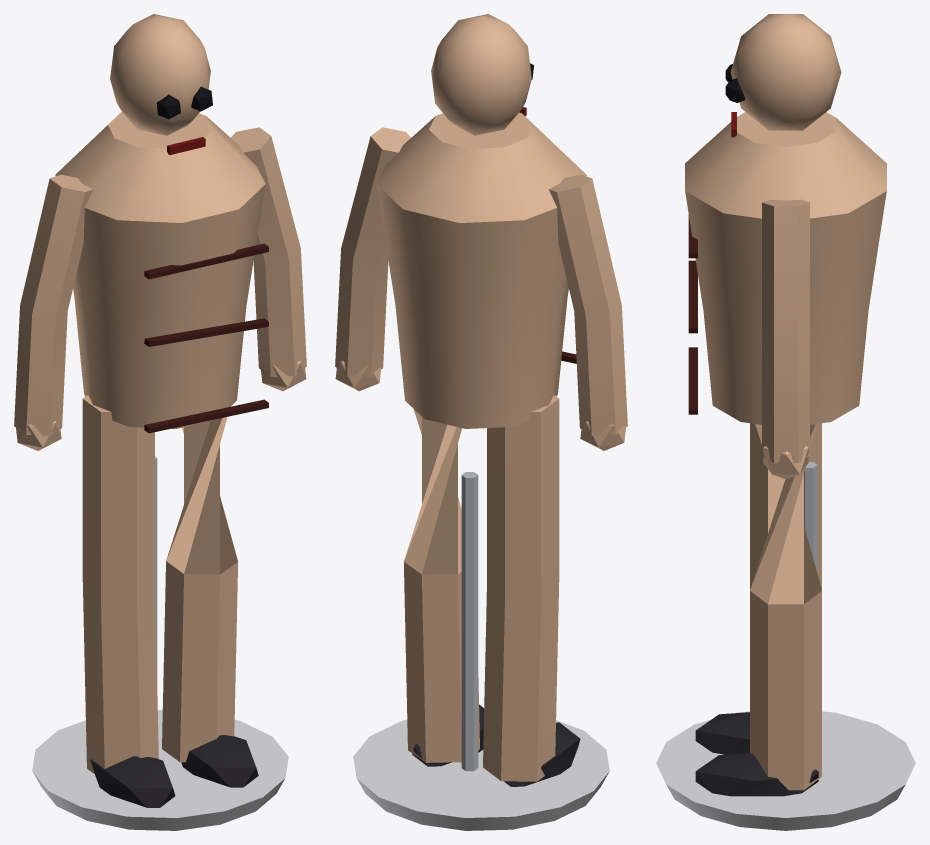
The model's file is mannequin_skin.glb.
3 renders of one model, left to right at view 1: azimuth 30°, elevation 25°; view 2: azimuth 150°, elevation 25°; view 3: azimuth 270°, elevation 25°, orthographic.
Parts seen in each view (by area): view 1: mannequin_skin; view 2: mannequin_skin; view 3: mannequin_skin.
Boxes of the visible parts, x1,y1,x2,y2 form: mannequin_skin: [14, 14, 306, 830]; mannequin_skin: [335, 14, 627, 830]; mannequin_skin: [656, 14, 915, 830].
Size of the model in its own units: 0.7138 by 1.83 by 0.56.
